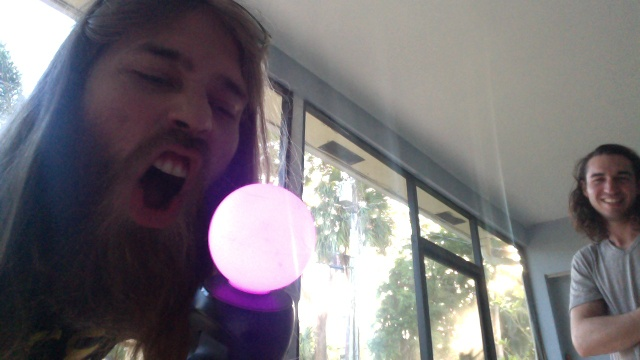wand: (210, 185, 317, 295)
